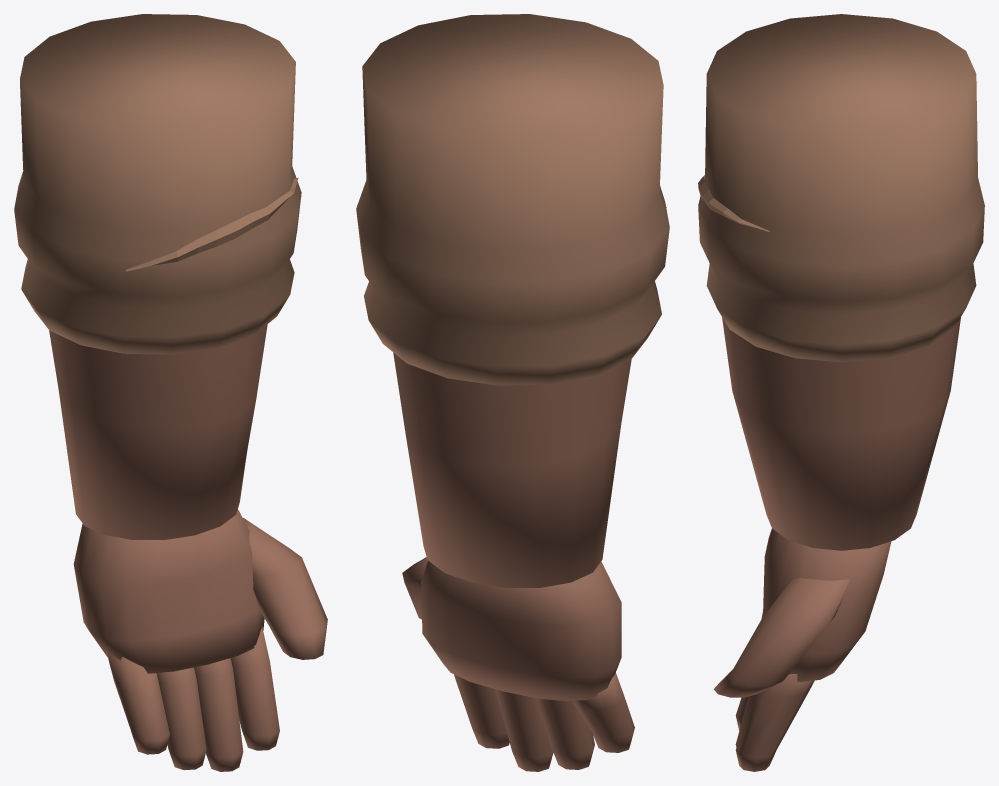
Rendered from AdaForearmL.glb.
3 renders of one model, left to right at view 1: azimuth 30°, elevation 25°; view 2: azimuth 150°, elevation 25°; view 3: azimuth 270°, elevation 25°, orthographic. The views are drawn at different scales.
Visible parts, largest first — view 1: AdaForearmL; view 2: AdaForearmL; view 3: AdaForearmL.
Boxes of the visible parts, left/top/right/bottom form: AdaForearmL: left=14, top=14, right=327, bottom=771; AdaForearmL: left=356, top=14, right=669, bottom=771; AdaForearmL: left=698, top=14, right=984, bottom=771.
Size of the model in its own units: 0.172 by 0.436 by 0.1681.
